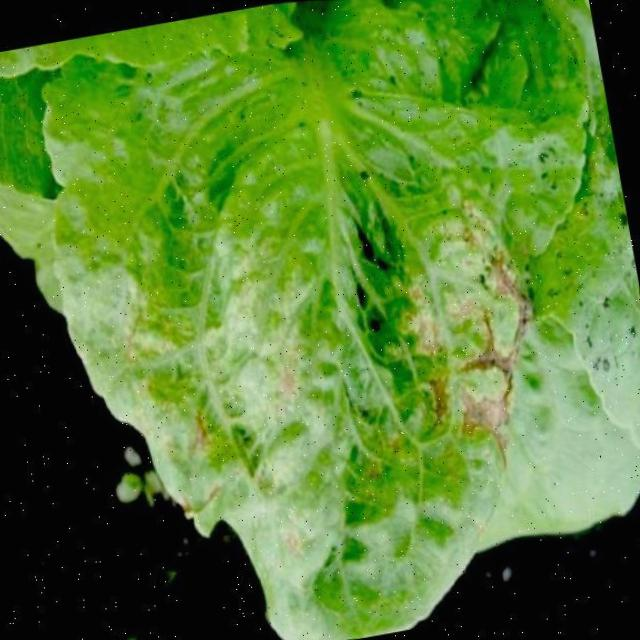Bacterial: (331, 151, 600, 504)
